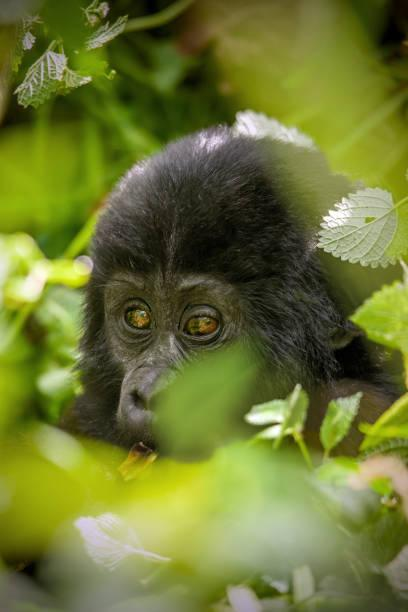goriile_montagne: (60, 119, 373, 503)
